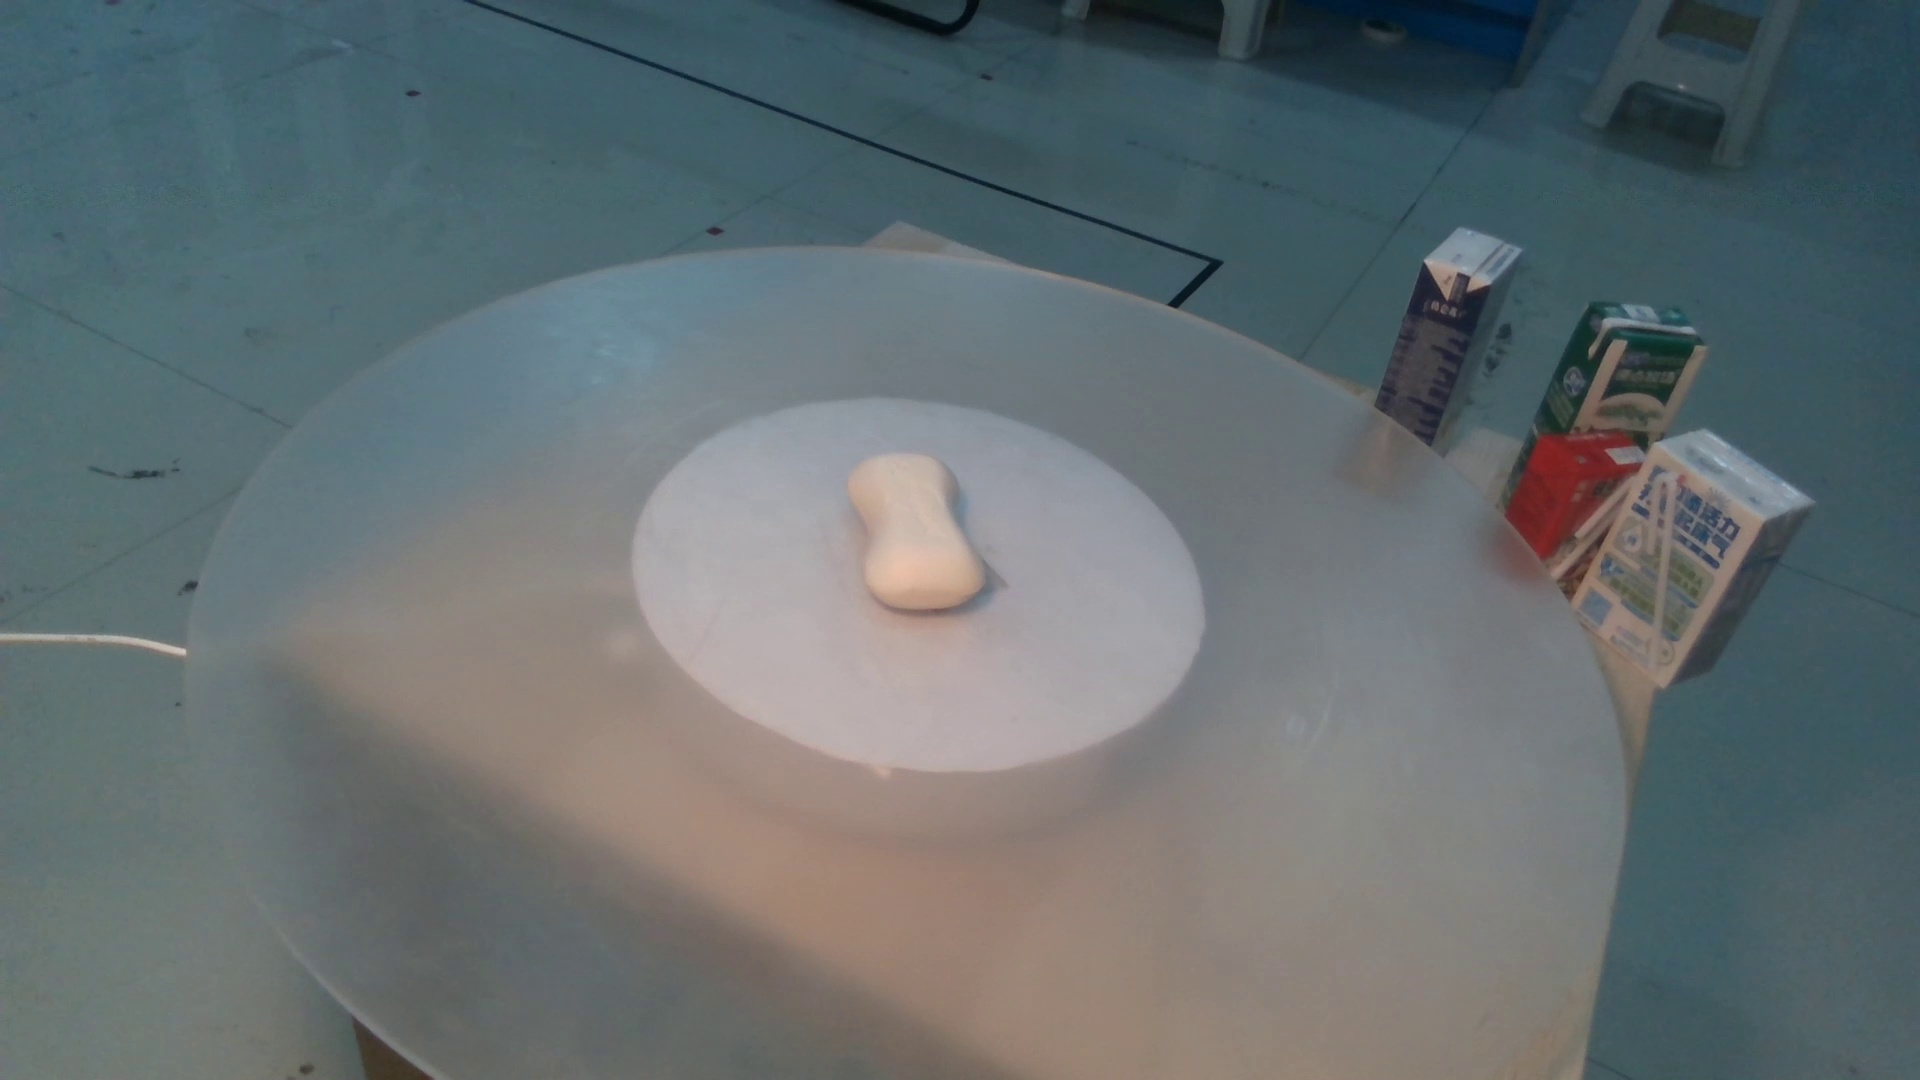CA003_1: (807, 425, 1021, 657)
